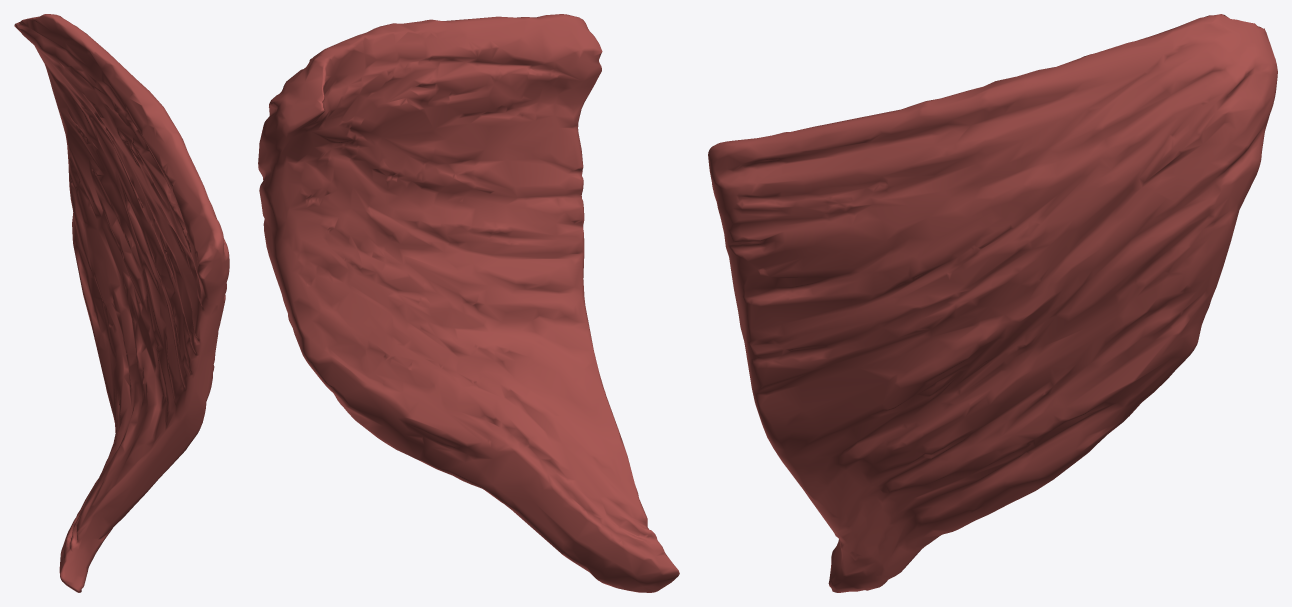
Rendered from FMA46836.glb.
3 renders of one model, left to right at view 1: azimuth 30°, elevation 25°; view 2: azimuth 150°, elevation 25°; view 3: azimuth 270°, elevation 25°, orthographic. The views are drawn at different scales.
Parts seen in each view (by area): view 1: FMA46836; view 2: FMA46836; view 3: FMA46836.
Boxes of the visible parts, bbox=[...] form: FMA46836: bbox=[14, 14, 229, 592]; FMA46836: bbox=[258, 14, 679, 592]; FMA46836: bbox=[708, 14, 1277, 592].
Bounding box in the file's own units: 0.0145 × 0.0351 × 0.028.
